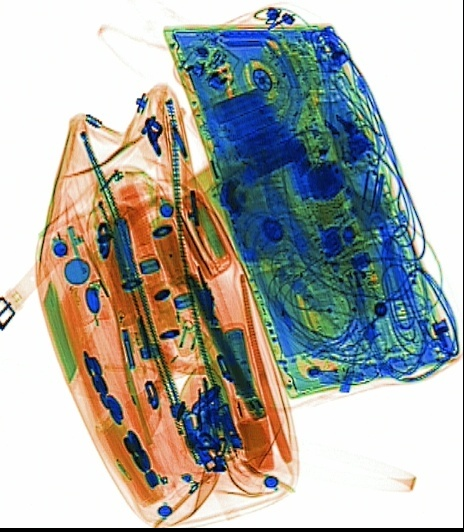powerbank: (199, 77, 310, 186)
